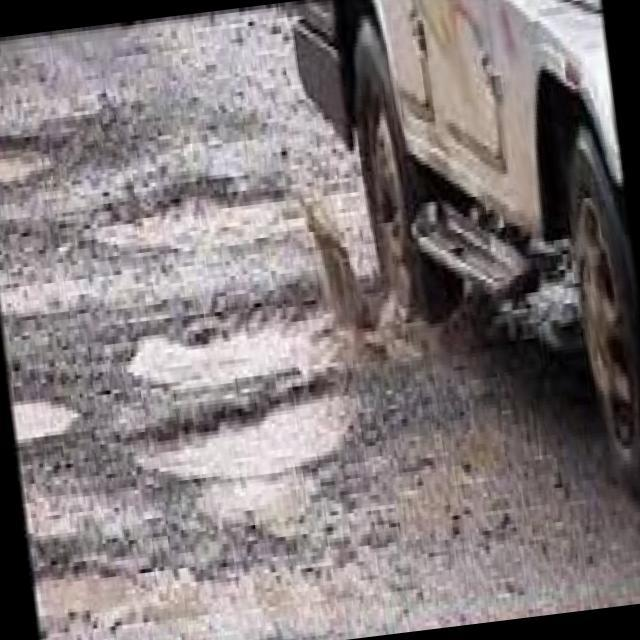Pothole: (121, 373, 401, 539), (111, 276, 362, 412), (8, 373, 88, 450)
